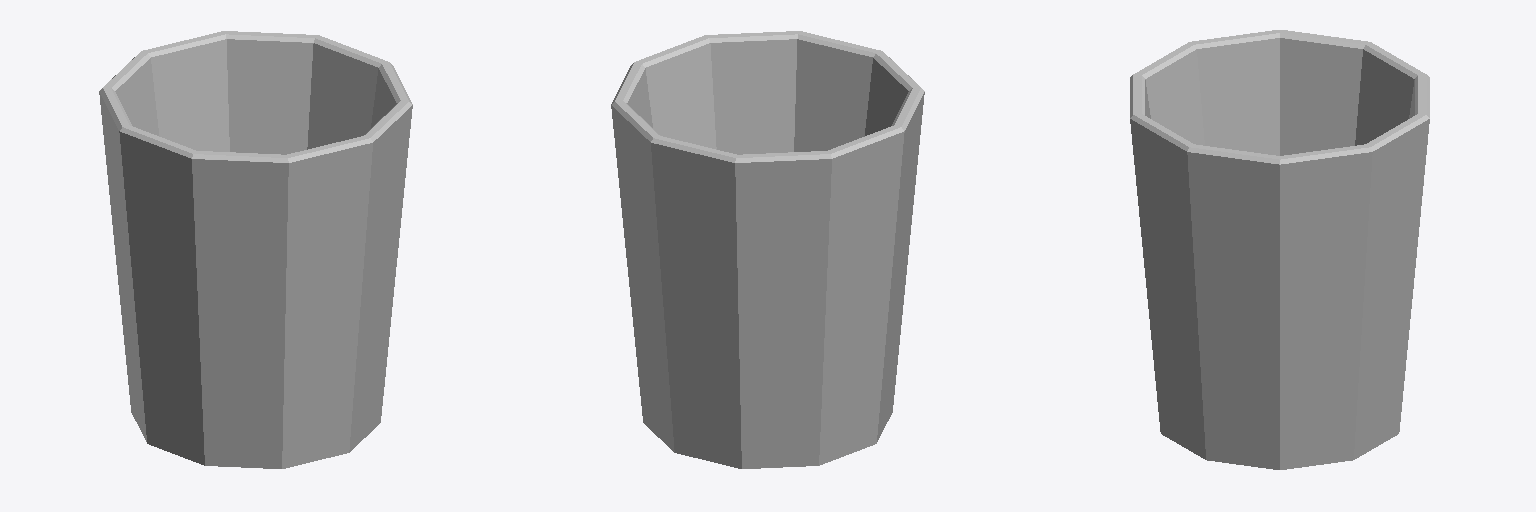
File: trashcan.obj
The picture shows the model from 3 angles: view 1: azimuth 30°, elevation 25°; view 2: azimuth 150°, elevation 25°; view 3: azimuth 270°, elevation 25°; orthographic projection.
Parts seen in each view (by area): view 1: Trashcan1; view 2: Trashcan1; view 3: Trashcan1.
Boxes of the visible parts, x1=… form: Trashcan1: x1=99, y1=31, x2=412, y2=468; Trashcan1: x1=611, y1=31, x2=924, y2=468; Trashcan1: x1=1130, y1=30, x2=1429, y2=469.
Size of the model in its own units: 43.1 by 48.68 by 40.99.